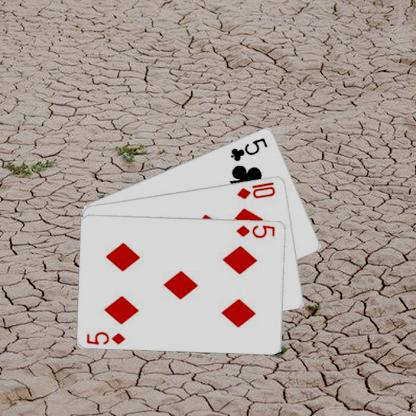10D: (235, 179, 277, 200)
5C: (228, 134, 269, 162)
5D: (234, 223, 276, 240), (85, 329, 127, 346)
